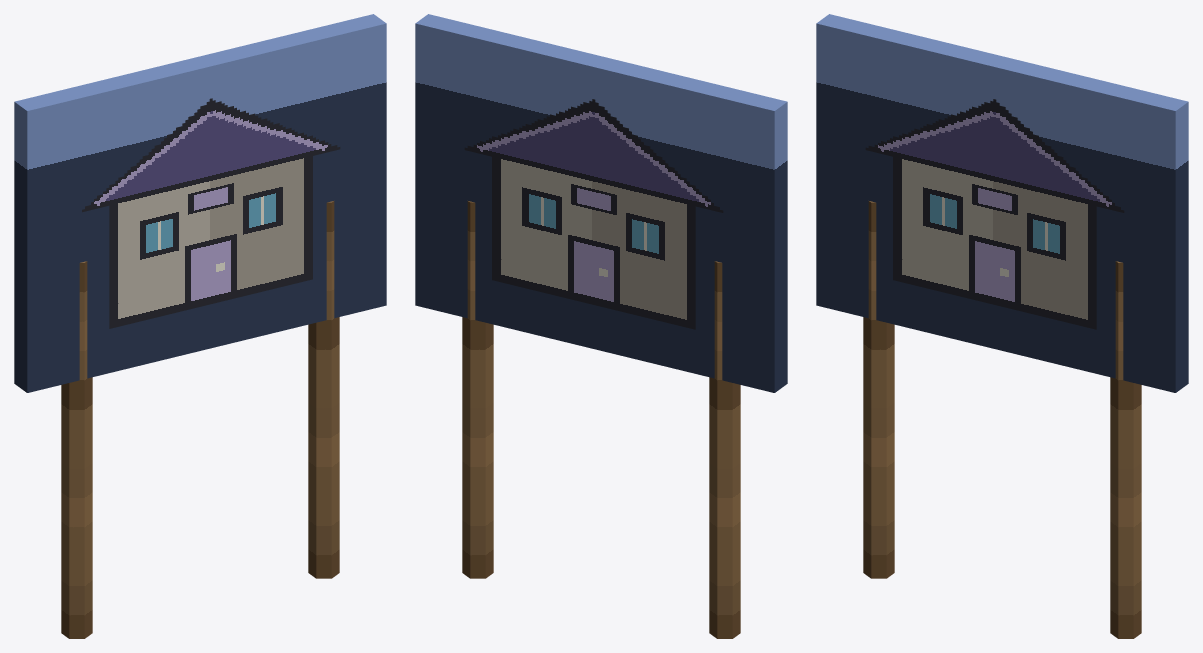
Rendered from sign_hq.glb.
The picture shows the model from 3 angles, left to right: view 1: azimuth 30°, elevation 25°; view 2: azimuth 150°, elevation 25°; view 3: azimuth 330°, elevation 25°; orthographic projection.
Parts seen in each view (by area): view 1: sign_hq; view 2: sign_hq; view 3: sign_hq.
Boxes of the visible parts, box(x1,y1,x2,y2) form: sign_hq: box(14, 14, 386, 638); sign_hq: box(415, 14, 787, 638); sign_hq: box(816, 14, 1188, 638).
Bounding box in the file's own units: 1.6 × 2.3 × 0.14.
3 materials, 3 textured.
